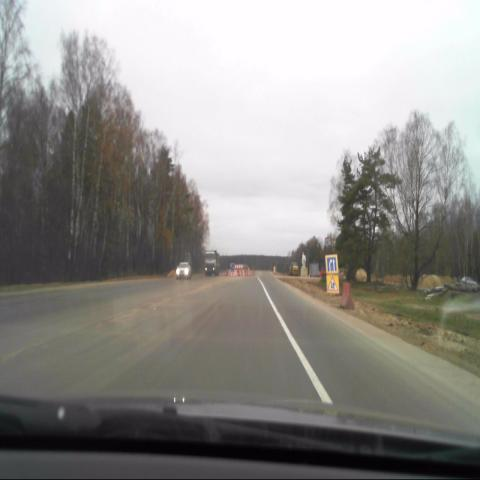1_21: (326, 275, 339, 294)
